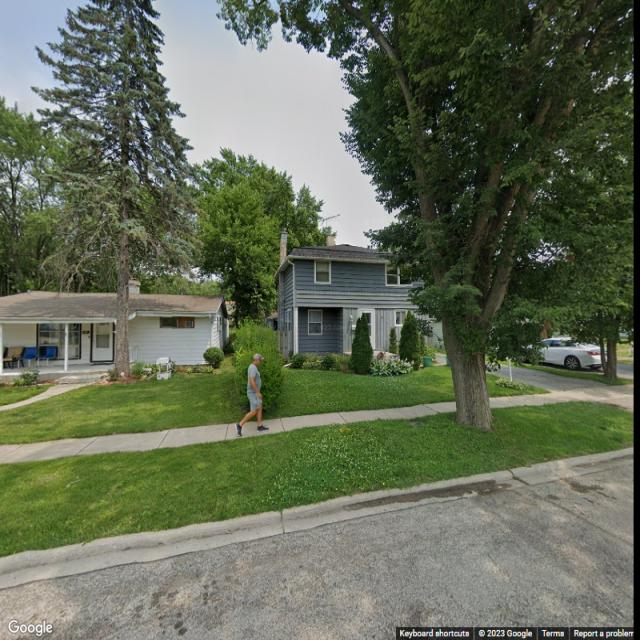House: (0, 282, 239, 384), (276, 229, 434, 365)
